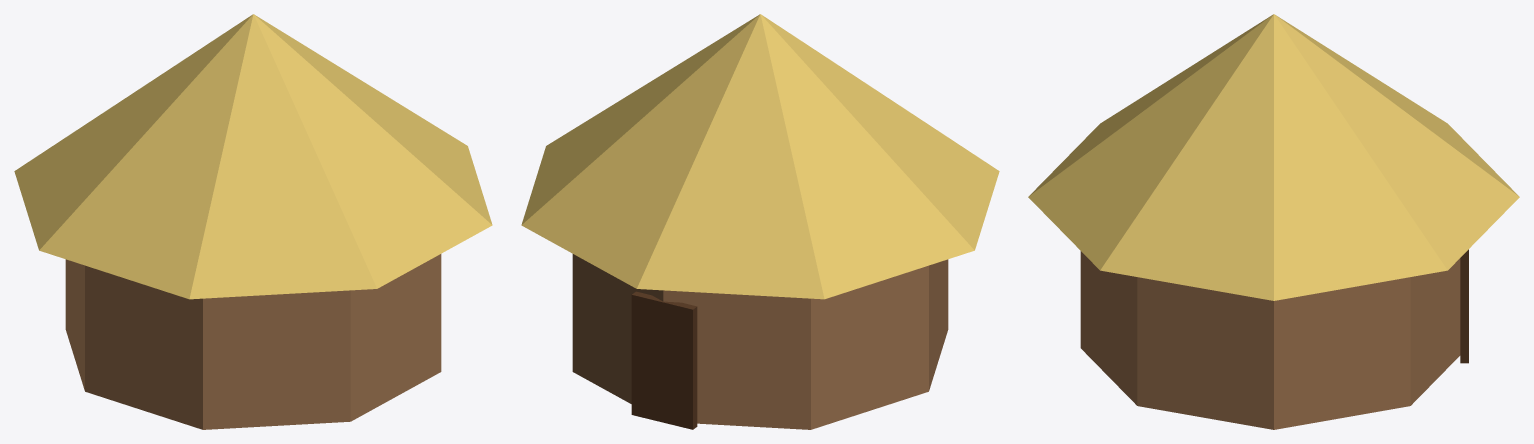
The model's file is SM_Hut.fbx.
3 views of the same model, side by side, from view 1: azimuth 30°, elevation 25°; view 2: azimuth 150°, elevation 25°; view 3: azimuth 270°, elevation 25° (orthographic).
Visible parts, largest first — view 1: SM_Hut; view 2: SM_Hut; view 3: SM_Hut.
Boxes of the visible parts, x1,y1,x2,y2 form: SM_Hut: (14, 14, 492, 429); SM_Hut: (521, 14, 999, 429); SM_Hut: (1028, 14, 1519, 429).
Bounding box in the file's own units: 5.6 × 5.6 × 4.2.
